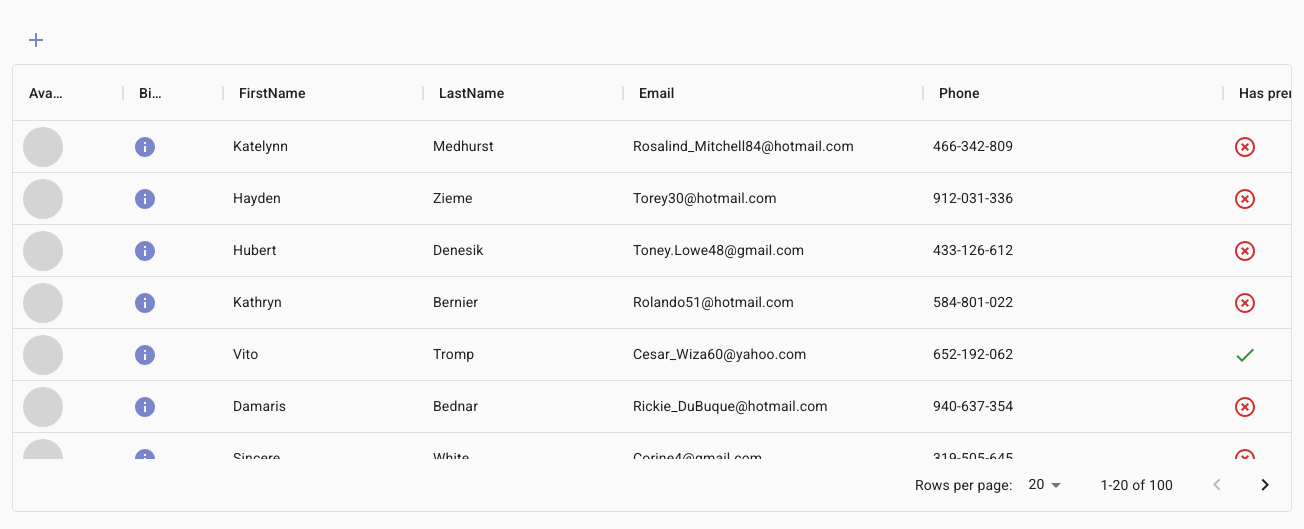
Merchants › show details and back to marchant
Click the icon named "bids-icon-0": (145, 147) [133, 135, 157, 159]
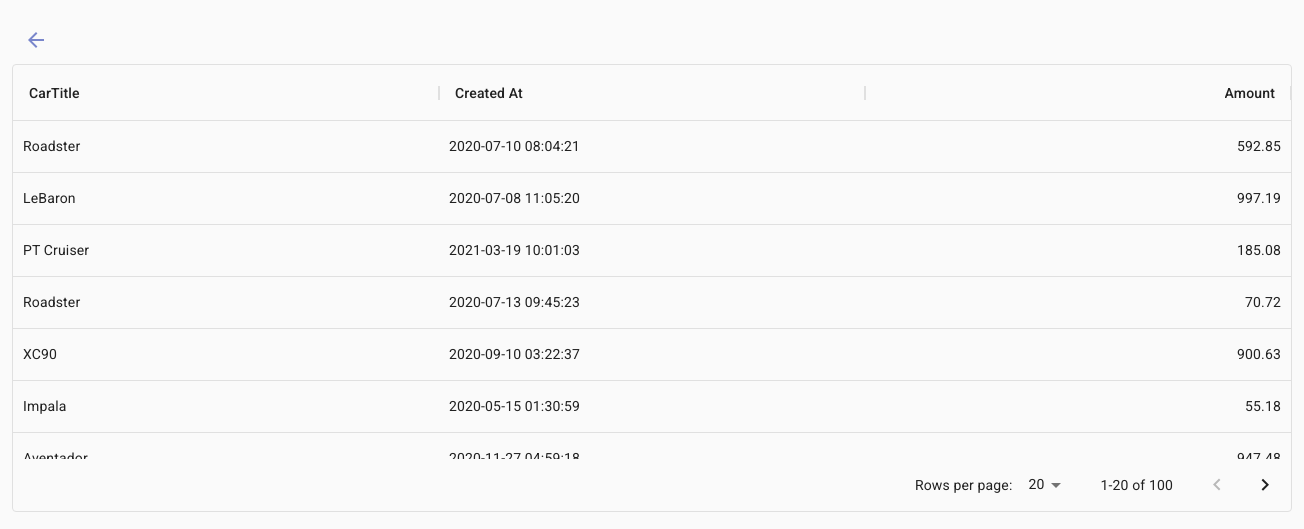
Expected: the cell "592.85" is shown, [865, 121, 1291, 173]
Click the button named "back": (36, 40) [12, 16, 60, 64]
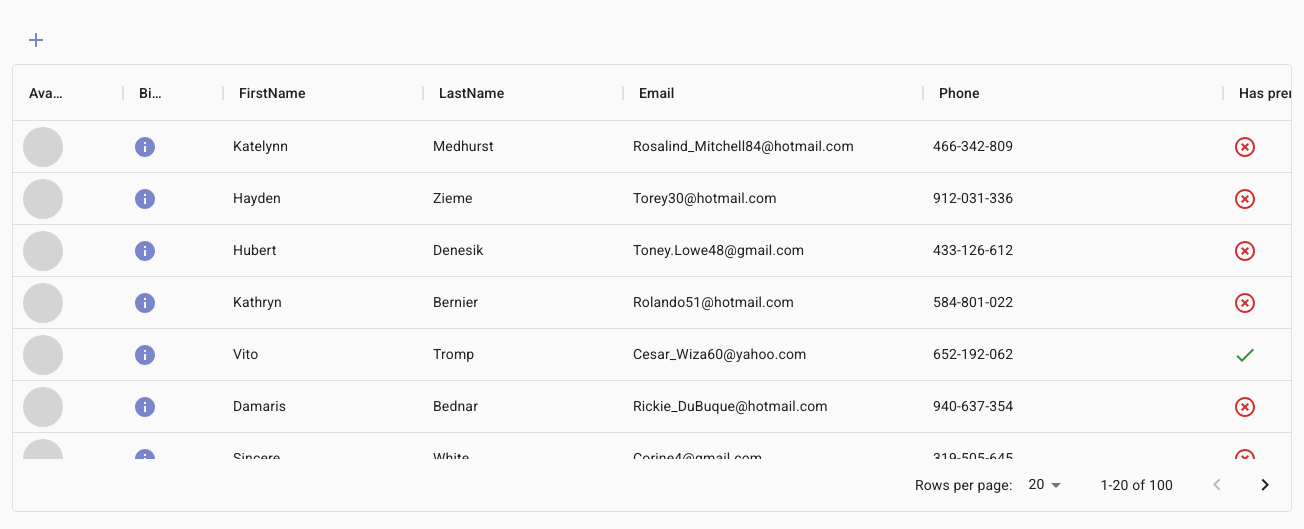
Expected: the cell "Katelynn" is shown, [223, 121, 423, 173]
